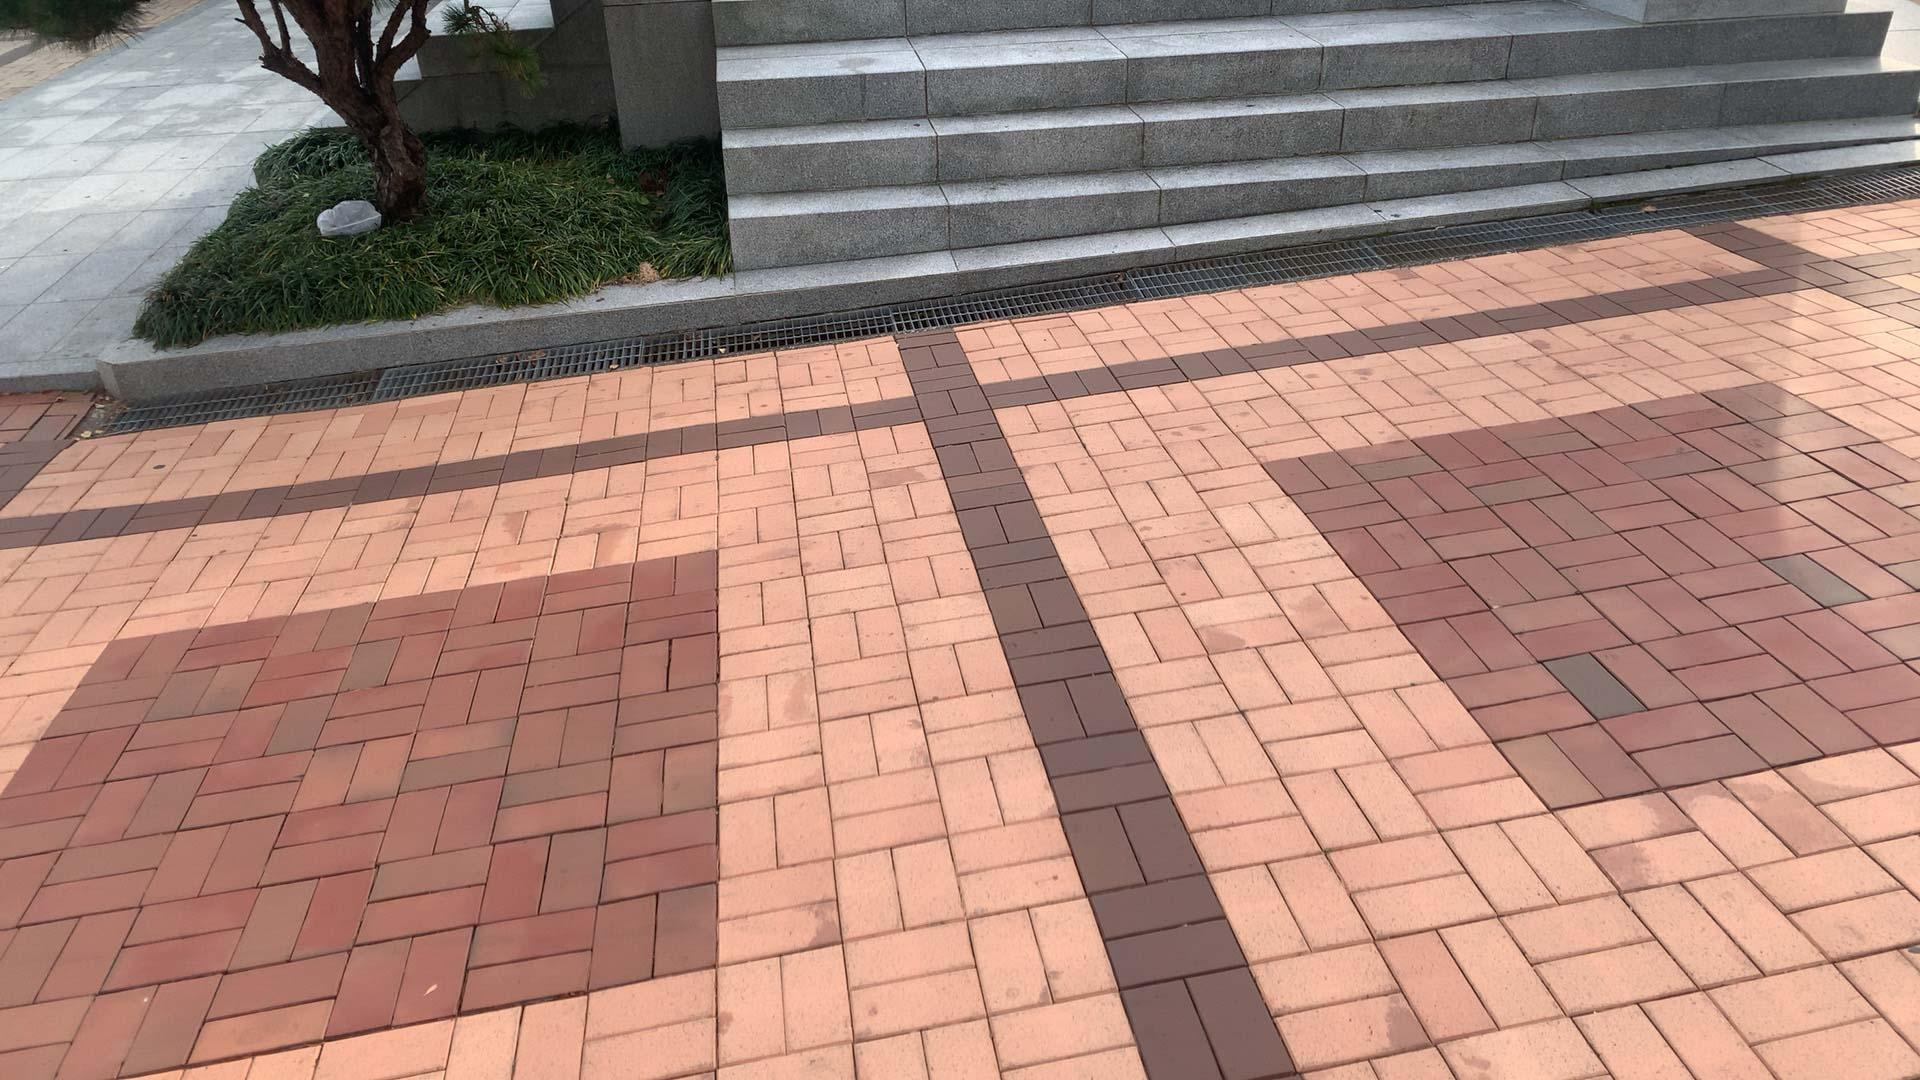white_bag: (305, 194, 385, 240)
